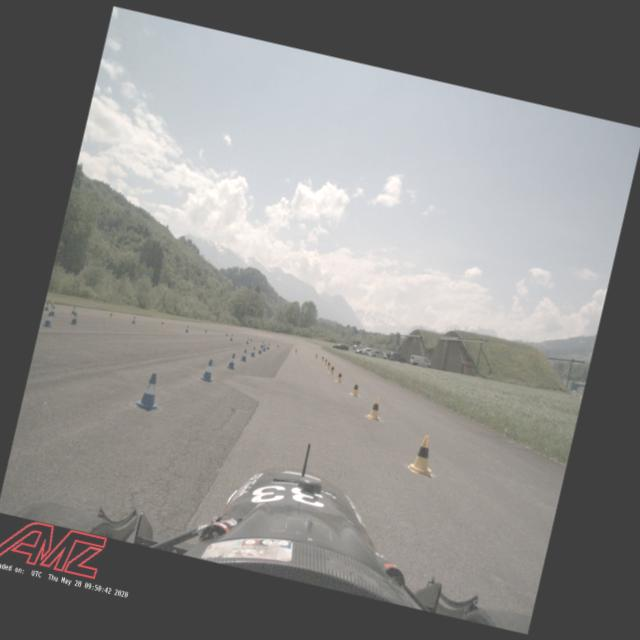blue_cone: (134, 370, 166, 414), (198, 357, 218, 383), (224, 351, 238, 370), (41, 310, 54, 328), (238, 347, 248, 362), (69, 311, 79, 325), (250, 345, 258, 358), (49, 304, 57, 316), (43, 300, 50, 312), (256, 345, 264, 354), (70, 306, 77, 315), (261, 342, 267, 352), (130, 316, 136, 324), (228, 334, 234, 342), (244, 337, 250, 344), (184, 324, 189, 332), (260, 340, 264, 348), (266, 342, 270, 350)
yellow_cone: (406, 432, 441, 477), (364, 394, 385, 422), (348, 378, 363, 398), (334, 368, 344, 384), (328, 362, 337, 374), (324, 360, 332, 370), (322, 358, 328, 366), (50, 300, 54, 309), (203, 328, 208, 335), (108, 311, 112, 319), (160, 320, 164, 328), (224, 332, 229, 338), (320, 355, 324, 362), (314, 352, 318, 359), (248, 337, 252, 344), (276, 343, 280, 349), (294, 348, 298, 353)
